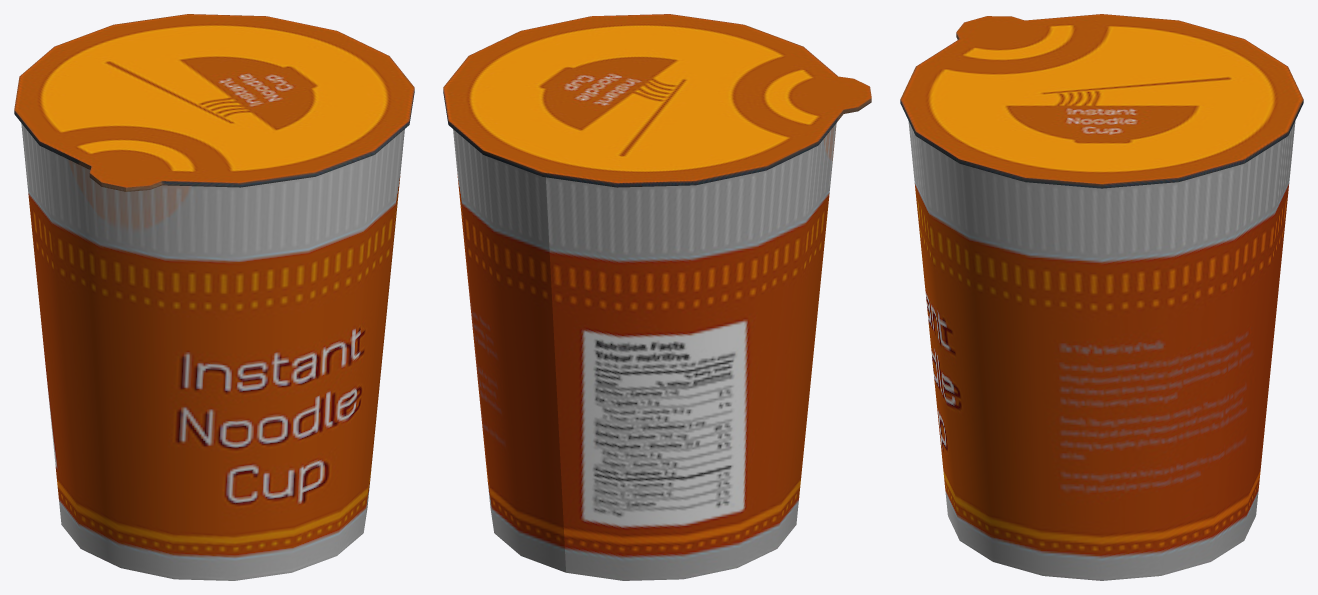
Rendered from InstantNoodleCup_1.fbx.
3 views of the same model, side by side, from view 1: azimuth 30°, elevation 25°; view 2: azimuth 150°, elevation 25°; view 3: azimuth 270°, elevation 25° (orthographic).
Parts seen in each view (by area): view 1: InstantNoodleCup_1; view 2: InstantNoodleCup_1; view 3: InstantNoodleCup_1.
Boxes of the visible parts, <box> form: InstantNoodleCup_1: <box>14,14,414,580</box>; InstantNoodleCup_1: <box>443,14,871,580</box>; InstantNoodleCup_1: <box>900,14,1303,580</box>.
Size of the model in its own units: 52.3 by 59.66 by 52.3.
1 material, 1 textured.
